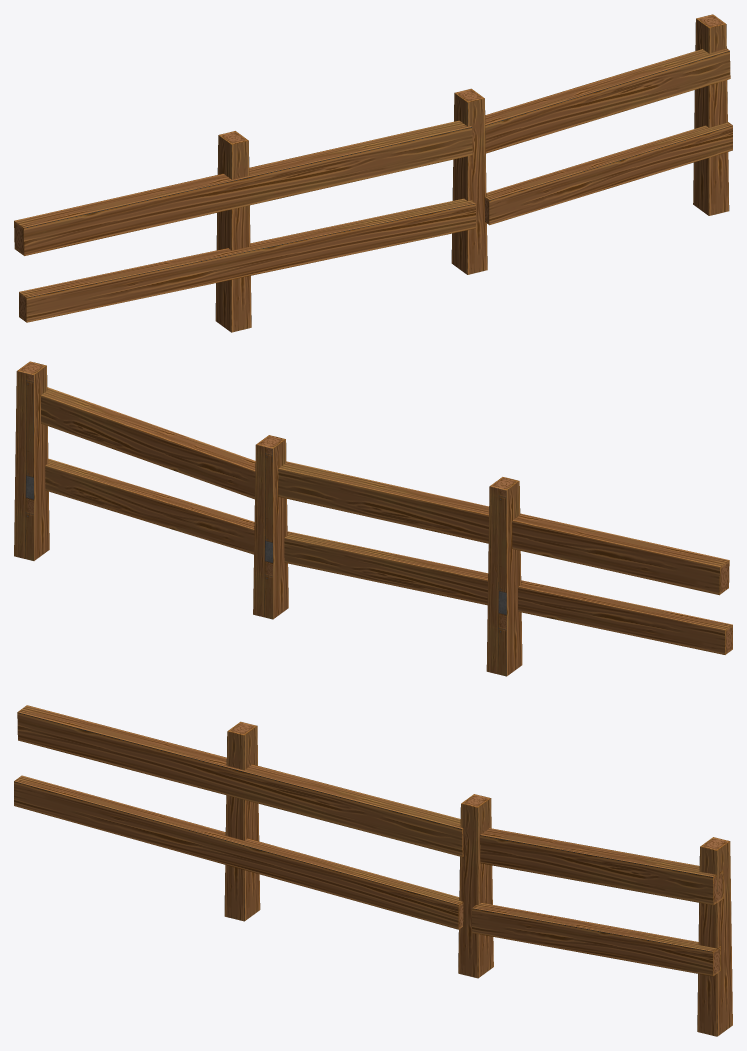
The picture shows the model from 3 angles, top to bottom: view 1: azimuth 30°, elevation 25°; view 2: azimuth 150°, elevation 25°; view 3: azimuth 330°, elevation 25°; orthographic projection.
Visible parts, largest first — view 1: Cube.1594; view 2: Cube.1594; view 3: Cube.1594.
Boxes of the visible parts, x1,y1,x2,y2 form: Cube.1594: (14, 14, 732, 332); Cube.1594: (14, 361, 732, 676); Cube.1594: (14, 705, 732, 1036).
Size of the model in its own units: 522 by 132 by 25.43.
Materials: 1 (1 with a texture image).
